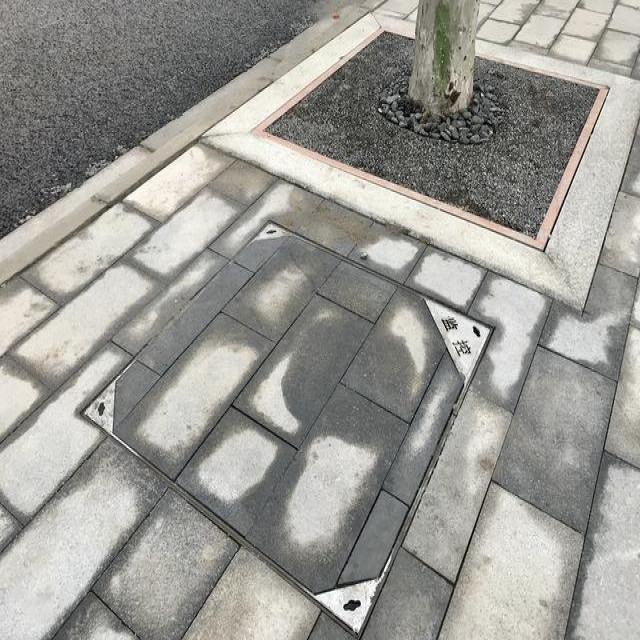manhole: (71, 226, 501, 598)
